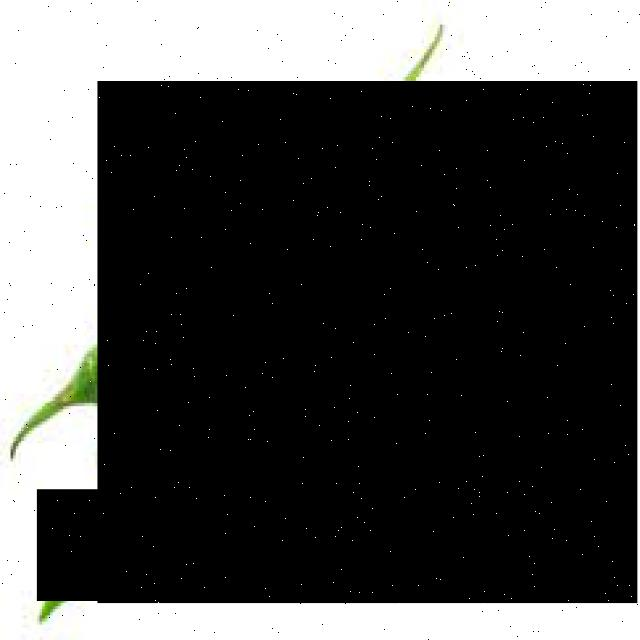Chili_Pepper: (99, 83, 640, 606), (159, 120, 622, 332), (139, 281, 493, 413), (39, 490, 384, 601), (296, 419, 628, 520)
